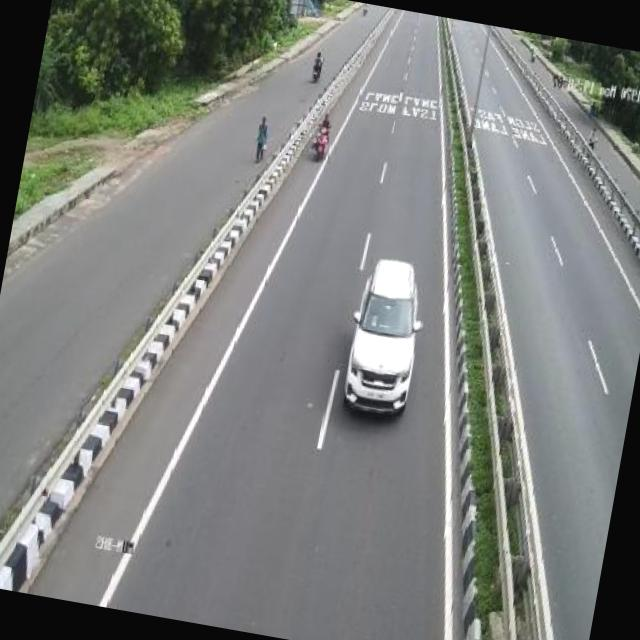car: (332, 244, 432, 426)
